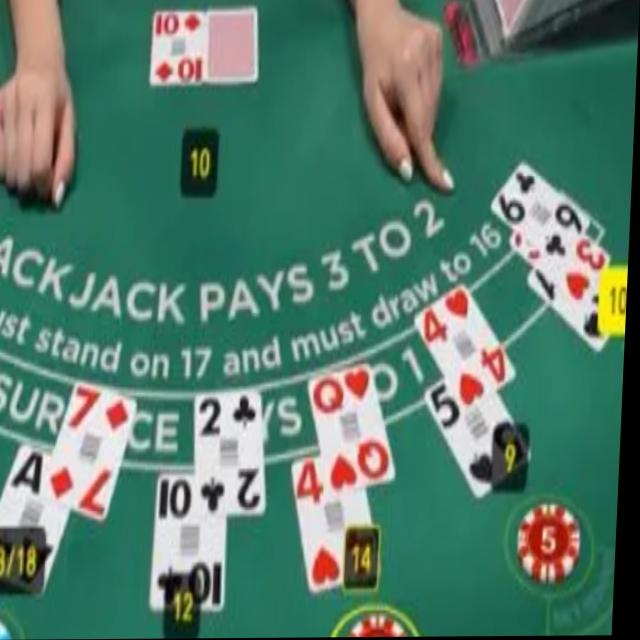Card-10: (156, 474, 231, 610), (150, 10, 205, 86)
Card-2: (201, 390, 269, 518)
Card-3: (510, 232, 613, 316)
Card-4: (418, 284, 519, 414), (296, 457, 385, 589)
Card-5: (428, 377, 534, 499)
Card-6: (492, 162, 592, 273)
Card-7: (49, 381, 140, 521)
Card-A: (0, 442, 75, 598), (530, 268, 612, 353)
Card-Q: (313, 365, 399, 493)
